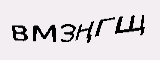В: (11, 24, 29, 43)
Г: (94, 16, 116, 39)
З: (58, 23, 76, 44)
М: (32, 24, 57, 43)
Щ: (113, 14, 146, 38)
Ң: (75, 20, 93, 45)
